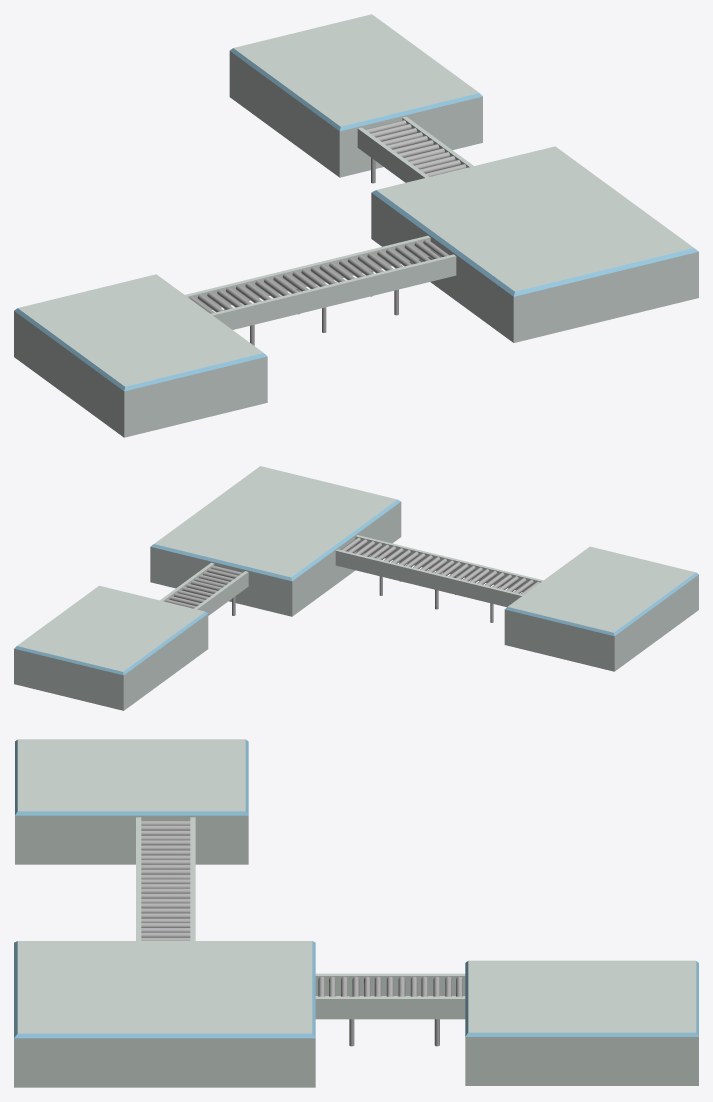
File: SM_Table_03.fbx
The picture shows the model from 3 angles, top to bottom: view 1: azimuth 30°, elevation 25°; view 2: azimuth 150°, elevation 25°; view 3: azimuth 270°, elevation 25°; orthographic projection. The views are drawn at different scales.
Visible parts, largest first — view 1: SM_Table_03; view 2: SM_Table_03; view 3: SM_Table_03.
Part boxes in pixels (x1,y1,x2,y2): SM_Table_03: (14,14,698,437); SM_Table_03: (14,466,698,710); SM_Table_03: (14,739,698,1087).
Size of the model in its own units: 934 by 76.81 by 911.
